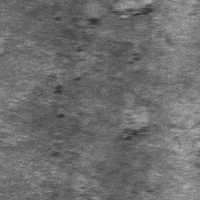rolled-in_scale: (78, 3, 159, 67), (50, 78, 91, 160)
